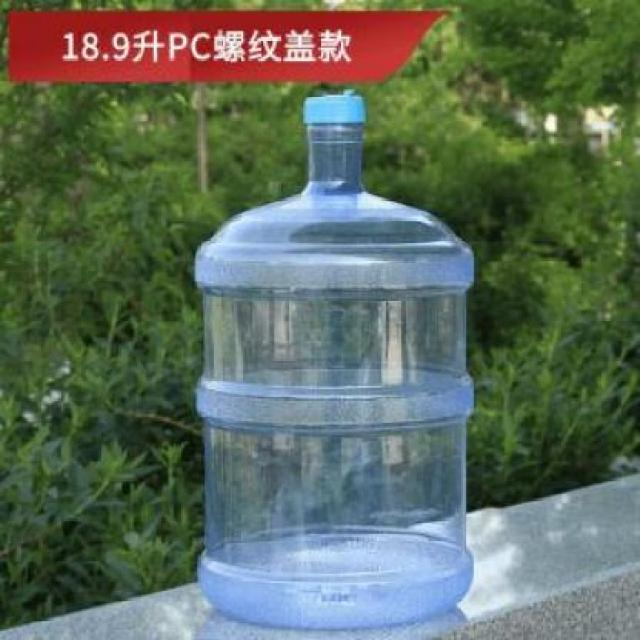coolerbottle: (188, 84, 482, 636)
